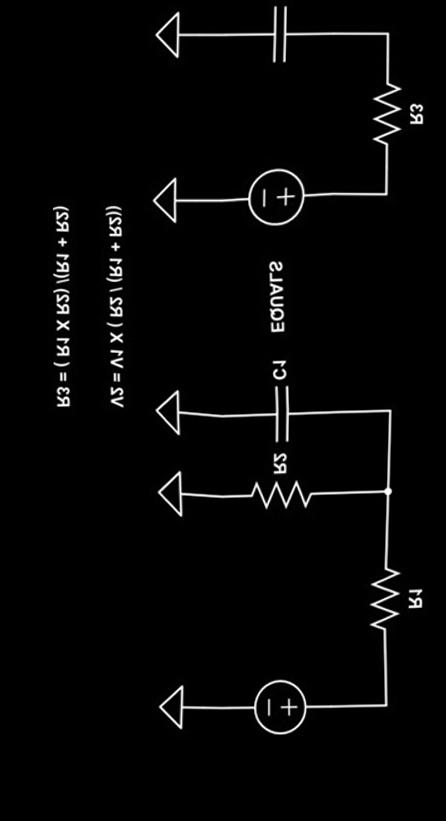Battery: (226, 651, 320, 751), (231, 146, 326, 244)
